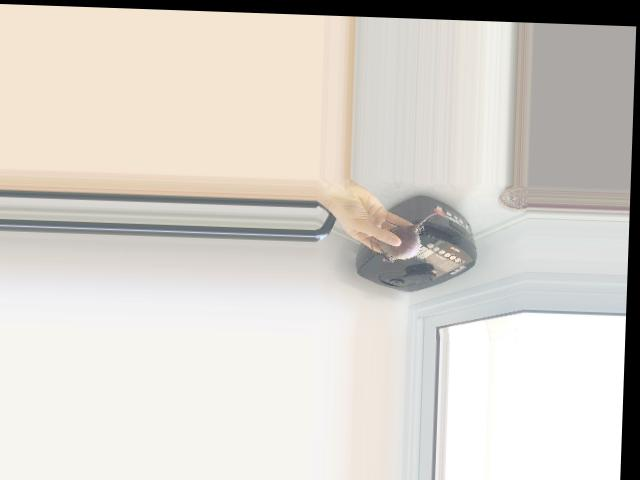beet: (371, 210, 436, 263)
